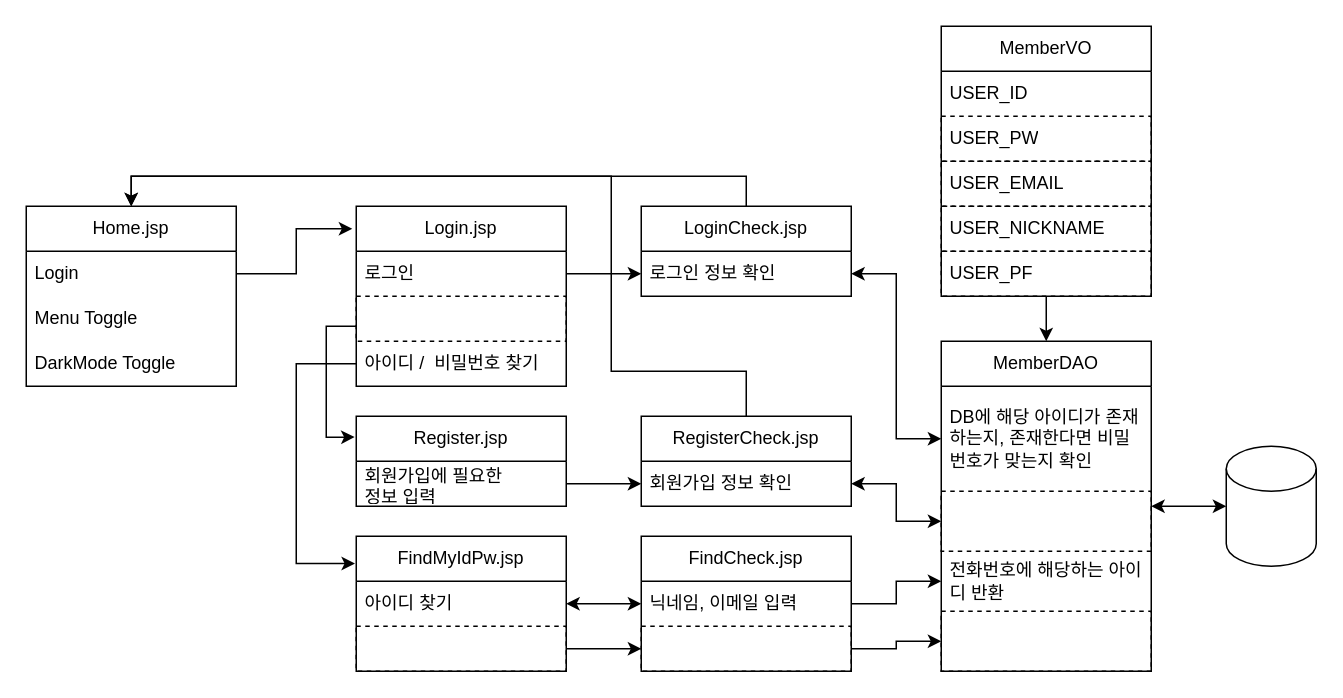
Some shapes in this 1343 by 698 pixel diagram are drawn without their labels. Each missing label, with the centre of its shape:
DB에 중복된 아이디가 존재하는지 확인: point 1045,520
Member DB: point 1270,505
비밀번호 찾기: point 460,648
아이디와 닉네임 입력: point 745,648
해당 아이디에 맞는 이메일로 확인 메일을 보냄: point 1045,640
회원가입: point 460,318
